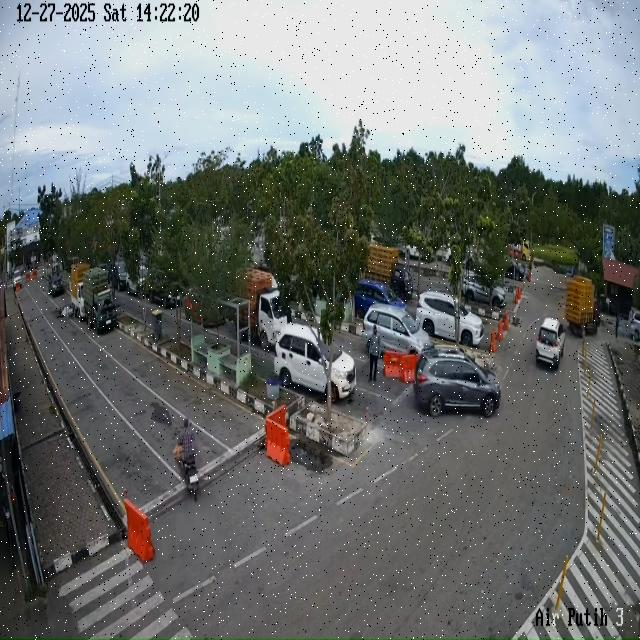Golongan IVA: (274, 323, 356, 401), (413, 348, 501, 418), (416, 290, 484, 348), (363, 304, 432, 354), (354, 279, 406, 320), (536, 317, 566, 369), (463, 272, 506, 308), (148, 276, 180, 308), (48, 272, 65, 297)
Golongan IVB: (240, 268, 288, 350), (83, 267, 117, 334), (565, 276, 600, 336), (68, 263, 90, 321)
